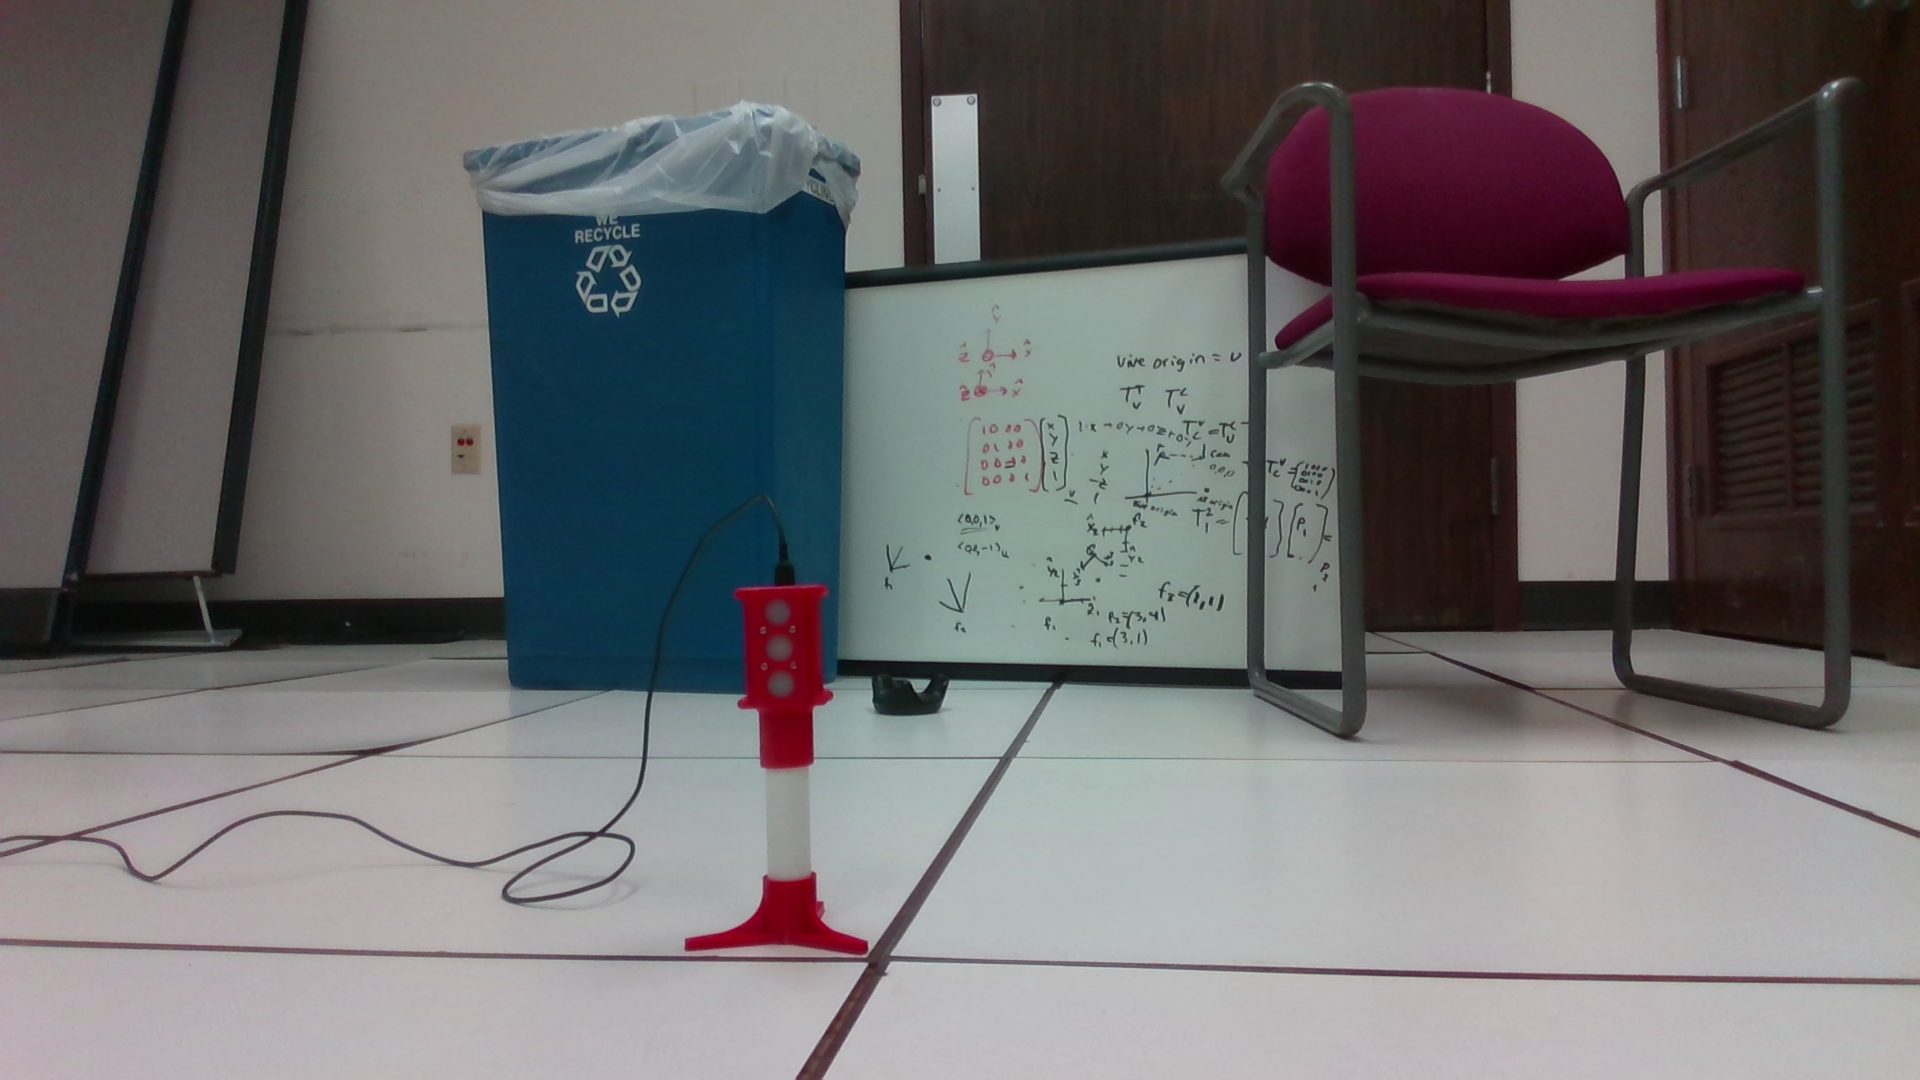stoplight: (732, 585, 837, 771)
